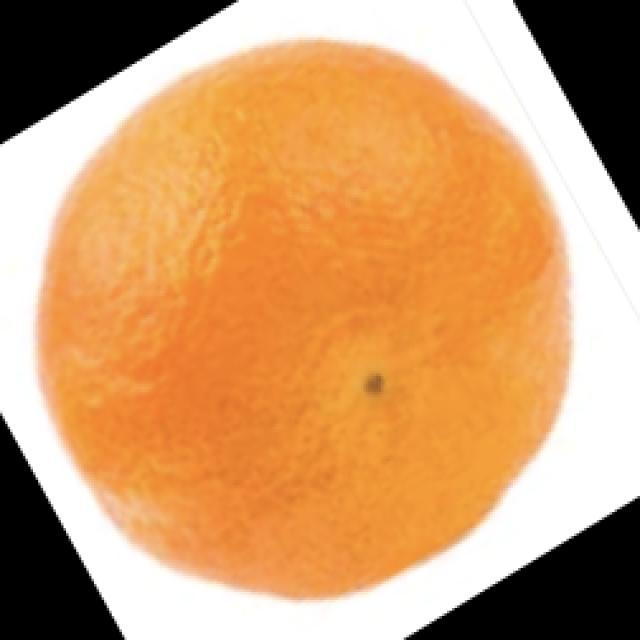matang: (39, 41, 568, 596)
